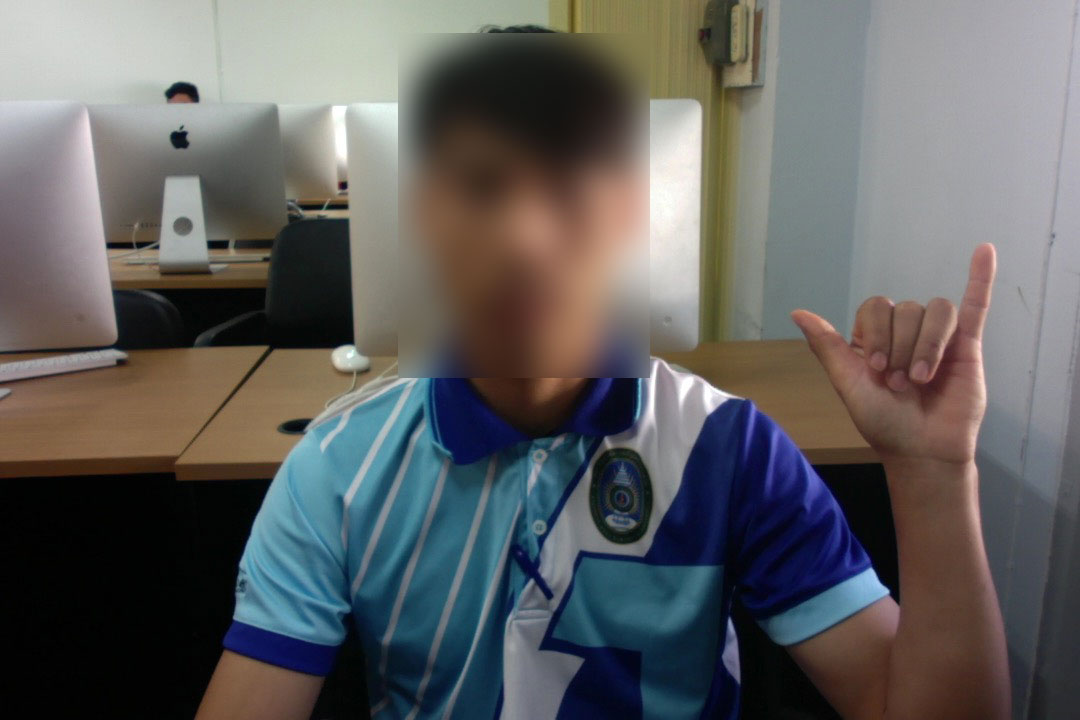yor: (781, 235, 1005, 466)
